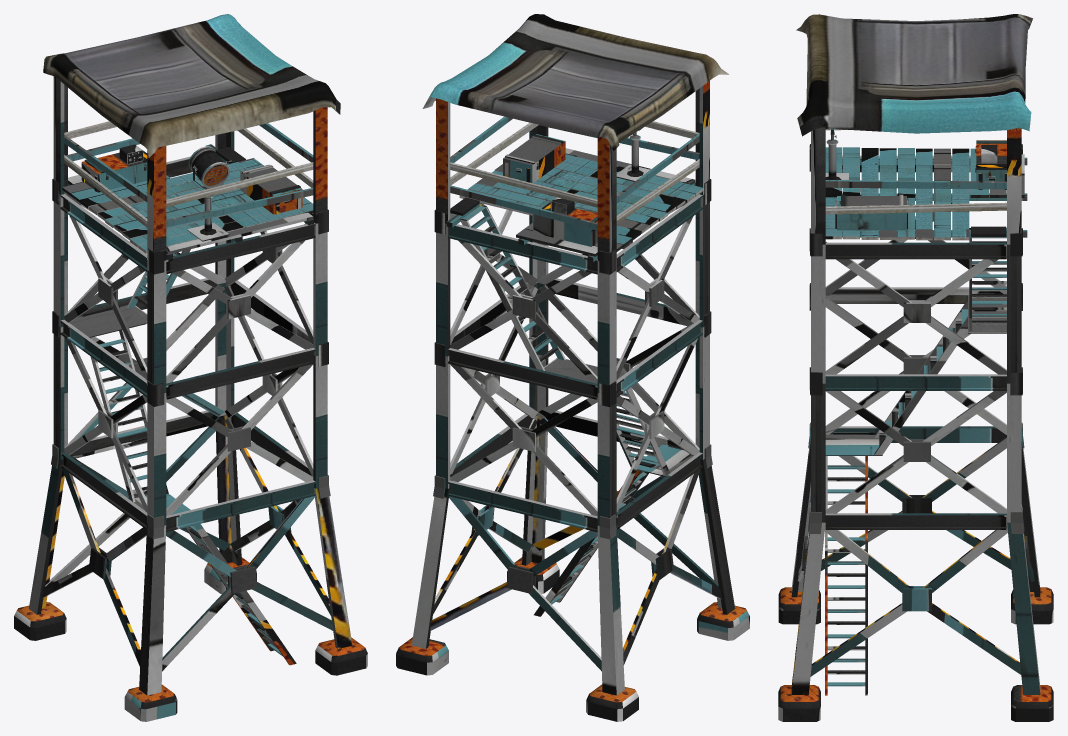
3 renders of one model, left to right at view 1: azimuth 30°, elevation 25°; view 2: azimuth 150°, elevation 25°; view 3: azimuth 270°, elevation 25°, orthographic. The views are drawn at different scales.
Visible parts, largest first — view 1: awning_Material #0_0, beam_39_Material #0_0, beam_01_Material #0_0, beam_33_Material #0_0, beam_30_Material #0_0, beam_38_Material #0_0, beam_02_Material #0_0, beam_06_Material #0_0, beam_11_Material #0_0, beam_17_Material #0_0, beam_21_Material #0_0, beam_26_Material #0_0 (+47 smaller); view 2: awning_Material #0_0, beam_37_Material #0_0, beam_04_Material #0_0, beam_35_Material #0_0, beam_31_Material #0_0, beam_38_Material #0_0, beam_03_Material #0_0, beam_05_Material #0_0, beam_10_Material #0_0, beam_19_Material #0_0, beam_23_Material #0_0, beam_01_Material #0_0 (+51 smaller); view 3: awning_Material #0_0, beam_40_Material #0_0, beam_34_Material #0_0, beam_32_Material #0_0, beam_27_Material #0_0, beam_02_Material #0_0, beam_03_Material #0_0, beam_22_Material #0_0, beam_18_Material #0_0, beam_38_Material #0_0, beam_36_Material #0_0, beam_12_Material #0_0 (+33 smaller).
Part boxes in pixels (x1=…): awning_Material #0_0: x1=43, y1=14, x2=340, y2=157; beam_39_Material #0_0: x1=162, y1=496, x2=333, y2=671; beam_01_Material #0_0: x1=139, y1=514, x2=166, y2=695; beam_33_Material #0_0: x1=166, y1=364, x2=313, y2=515; beam_30_Material #0_0: x1=166, y1=240, x2=313, y2=383; beam_38_Material #0_0: x1=42, y1=468, x2=146, y2=667; beam_02_Material #0_0: x1=314, y1=475, x2=352, y2=648; beam_06_Material #0_0: x1=147, y1=381, x2=166, y2=525; beam_11_Material #0_0: x1=147, y1=248, x2=166, y2=393; beam_17_Material #0_0: x1=166, y1=480, x2=315, y2=532; beam_21_Material #0_0: x1=166, y1=347, x2=315, y2=399; beam_26_Material #0_0: x1=166, y1=223, x2=315, y2=274; awning_Material #0_0: x1=422, y1=14, x2=728, y2=151; beam_37_Material #0_0: x1=430, y1=496, x2=601, y2=671; beam_04_Material #0_0: x1=597, y1=514, x2=624, y2=695; beam_35_Material #0_0: x1=450, y1=364, x2=597, y2=516; beam_31_Material #0_0: x1=450, y1=240, x2=597, y2=383; beam_38_Material #0_0: x1=617, y1=469, x2=721, y2=665; beam_03_Material #0_0: x1=411, y1=475, x2=449, y2=648; beam_05_Material #0_0: x1=597, y1=381, x2=616, y2=525; beam_10_Material #0_0: x1=597, y1=249, x2=616, y2=393; beam_19_Material #0_0: x1=448, y1=480, x2=597, y2=532; beam_23_Material #0_0: x1=448, y1=348, x2=597, y2=399; beam_01_Material #0_0: x1=698, y1=444, x2=735, y2=614; awning_Material #0_0: x1=796, y1=14, x2=1032, y2=136; beam_40_Material #0_0: x1=810, y1=523, x2=1021, y2=676; beam_34_Material #0_0: x1=825, y1=391, x2=1006, y2=513; beam_32_Material #0_0: x1=825, y1=242, x2=1006, y2=374; beam_27_Material #0_0: x1=825, y1=242, x2=1006, y2=259; beam_02_Material #0_0: x1=791, y1=507, x2=825, y2=694; beam_03_Material #0_0: x1=1007, y1=507, x2=1040, y2=694; beam_22_Material #0_0: x1=825, y1=374, x2=1006, y2=390; beam_18_Material #0_0: x1=825, y1=513, x2=1006, y2=529; beam_38_Material #0_0: x1=803, y1=437, x2=1028, y2=575; beam_36_Material #0_0: x1=825, y1=297, x2=1006, y2=434; beam_12_Material #0_0: x1=809, y1=228, x2=825, y2=383.
Size of the model in its own units: 518 by 1261 by 518.
